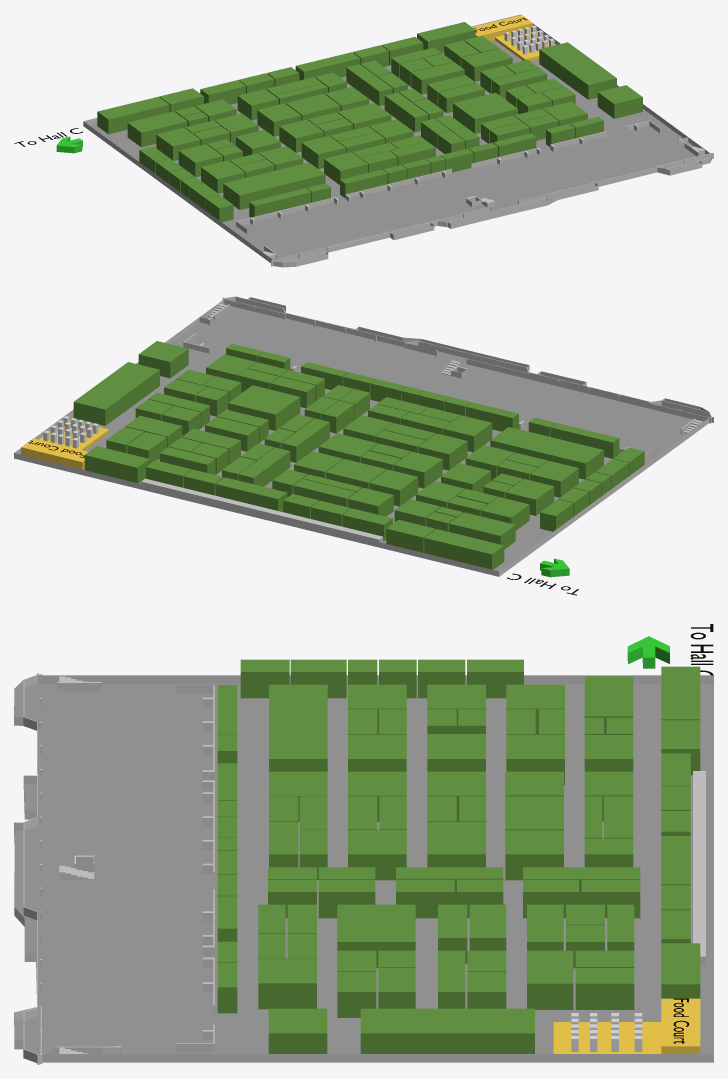
File: Hall_B_2.glb
3 views of the same model, one above another, from view 1: azimuth 30°, elevation 25°; view 2: azimuth 150°, elevation 25°; view 3: azimuth 270°, elevation 25° (orthographic). The views are drawn at different scales.
Parts seen in each view (by area): view 1: Plane, Building_curve_, Background_curve_, BOOTHLAYER_curve_.B-6030, BOOTHLAYER_curve_.B-3190, BOOTHLAYER_curve_.B-5140, BOOTHLAYER_curve_.B-1000, 0_curve_, BOOTHLAYER_curve_.B-2000, BOOTHLAYER_curve_.B-6180, BOOTHLAYER_curve_.B-2100, BOOTHLAYER_curve_.B-1060 (+60 smaller); view 2: Plane, Building_curve_, Background_curve_, BOOTHLAYER_curve_.B-3190, BOOTHLAYER_curve_.B-6030, BOOTHLAYER_curve_.B-1000, BOOTHLAYER_curve_.B-5140, 0_curve_, BOOTHLAYER_curve_.B-1100, BOOTHLAYER_curve_.B-2000, BOOTHLAYER_curve_.B-1060, BOOTHLAYER_curve_.B-6180 (+60 smaller); view 3: Plane, Building_curve_, BOOTHLAYER_curve_.B-3190, Background_curve_, BOOTHLAYER_curve_.B-6030, 0_curve_, BOOTHLAYER_curve_.B-5140, BOOTHLAYER_curve_.B-6170, BOOTHLAYER_curve_.B-2200, BOOTHLAYER_curve_.B-6180, BOOTHLAYER_curve_.B-4095, BOOTHLAYER_curve_.B-2195 (+80 smaller).
Boxes of the visible parts, left/top/right/bottom form: Plane: left=88, top=40, right=696, bottom=262; Building_curve_: left=83, top=14, right=713, bottom=266; Background_curve_: left=83, top=42, right=712, bottom=267; BOOTHLAYER_curve_.B-6030: left=223, top=162, right=325, bottom=209; BOOTHLAYER_curve_.B-3190: left=539, top=42, right=616, bottom=99; BOOTHLAYER_curve_.B-5140: left=453, top=92, right=517, bottom=133; BOOTHLAYER_curve_.B-1000: left=97, top=96, right=169, bottom=134; 0_curve_: left=472, top=15, right=555, bottom=60; BOOTHLAYER_curve_.B-2000: left=127, top=111, right=187, bottom=147; BOOTHLAYER_curve_.B-6180: left=597, top=85, right=642, bottom=118; BOOTHLAYER_curve_.B-2100: left=346, top=64, right=392, bottom=106; BOOTHLAYER_curve_.B-1060: left=295, top=52, right=360, bottom=80; Plane: left=20, top=304, right=708, bottom=571; Building_curve_: left=14, top=296, right=713, bottom=542; Background_curve_: left=14, top=297, right=713, bottom=576; BOOTHLAYER_curve_.B-3190: left=73, top=362, right=159, bottom=425; BOOTHLAYER_curve_.B-6030: left=490, top=427, right=603, bottom=479; BOOTHLAYER_curve_.B-1000: left=424, top=529, right=504, bottom=569; BOOTHLAYER_curve_.B-5140: left=228, top=385, right=300, bottom=430; 0_curve_: left=21, top=420, right=109, bottom=469; BOOTHLAYER_curve_.B-1100: left=84, top=446, right=149, bottom=483; BOOTHLAYER_curve_.B-2000: left=449, top=512, right=515, bottom=549; BOOTHLAYER_curve_.B-1060: left=215, top=477, right=287, bottom=511; BOOTHLAYER_curve_.B-6180: left=138, top=341, right=188, bottom=378; Plane: left=14, top=683, right=713, bottom=1054; Building_curve_: left=23, top=673, right=705, bottom=1062; BOOTHLAYER_curve_.B-3190: left=360, top=1008, right=534, bottom=1053; Background_curve_: left=14, top=673, right=713, bottom=1064; BOOTHLAYER_curve_.B-6030: left=269, top=684, right=327, bottom=771; 0_curve_: left=553, top=998, right=700, bottom=1053; BOOTHLAYER_curve_.B-5140: left=337, top=904, right=415, bottom=968; BOOTHLAYER_curve_.B-6170: left=258, top=958, right=316, bottom=1009; BOOTHLAYER_curve_.B-2200: left=527, top=950, right=573, bottom=1009; BOOTHLAYER_curve_.B-6180: left=268, top=1008, right=327, bottom=1053; BOOTHLAYER_curve_.B-4095: left=427, top=822, right=485, bottom=867; BOOTHLAYER_curve_.B-2195: left=575, top=968, right=634, bottom=1009.
Bounding box in the file's own units: 107 × 3.24 × 71.65.
